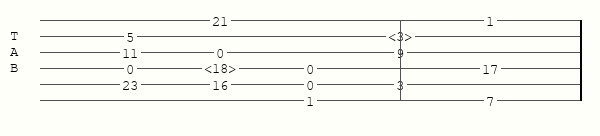0: (126, 62, 138, 75), (216, 46, 228, 59), (306, 78, 318, 91), (306, 62, 318, 75)
1: (306, 94, 318, 107), (486, 14, 498, 27)
11: (122, 46, 142, 59)
16: (212, 78, 232, 91)
17: (482, 62, 502, 75)
21: (212, 14, 232, 27)
23: (122, 78, 142, 91)
3: (396, 78, 408, 91)
5: (126, 30, 138, 43)
7: (486, 94, 498, 107)
9: (396, 46, 408, 59)
harmonic: (204, 61, 240, 75), (388, 29, 416, 43)
